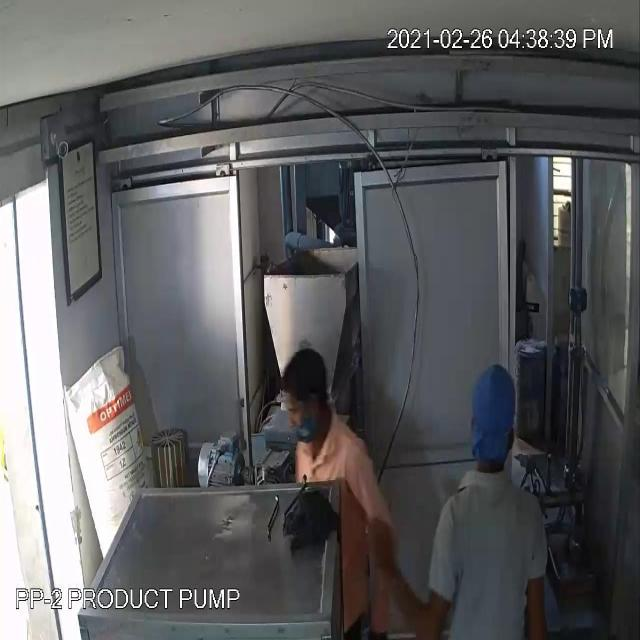no-helmet: (279, 344, 333, 425)
